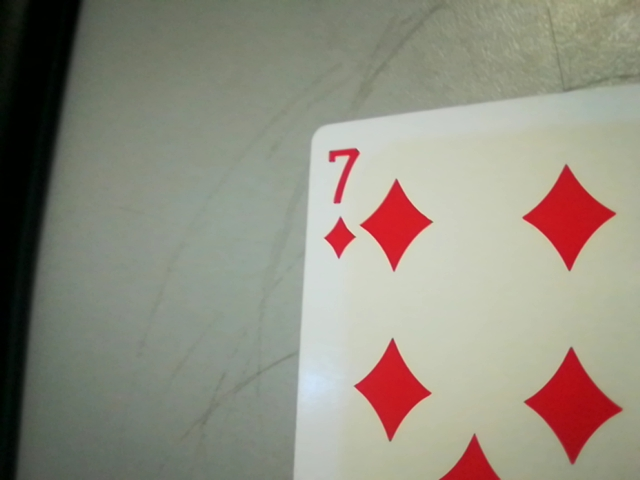fk 7: (309, 135, 365, 262)
